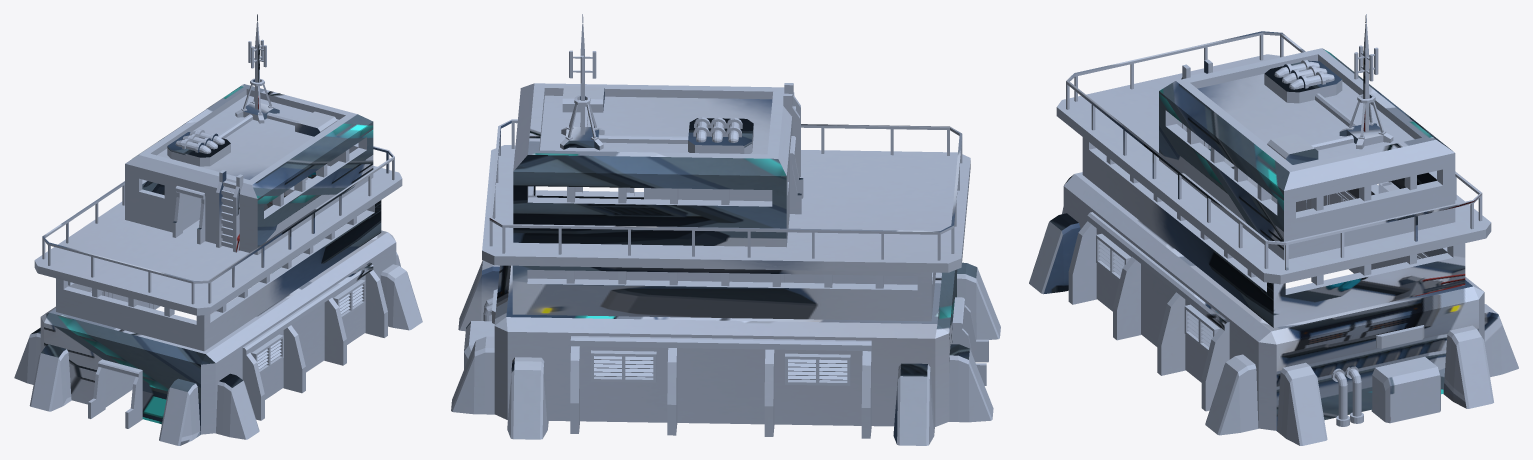
3 renders of one model, left to right at view 1: azimuth 30°, elevation 25°; view 2: azimuth 150°, elevation 25°; view 3: azimuth 270°, elevation 25°, orthographic. The views are drawn at different scales.
Parts seen in each view (by area): view 1: Office building_1__0; view 2: Office building_1__0; view 3: Office building_1__0.
Part boxes in pixels (bbox=[...]): Office building_1__0: bbox=[14, 14, 422, 445]; Office building_1__0: bbox=[451, 14, 1000, 445]; Office building_1__0: bbox=[1029, 14, 1518, 445].
Size of the model in its own units: 0.3396 by 0.2369 by 0.2927.
Materials: 1 (1 with a texture image).
